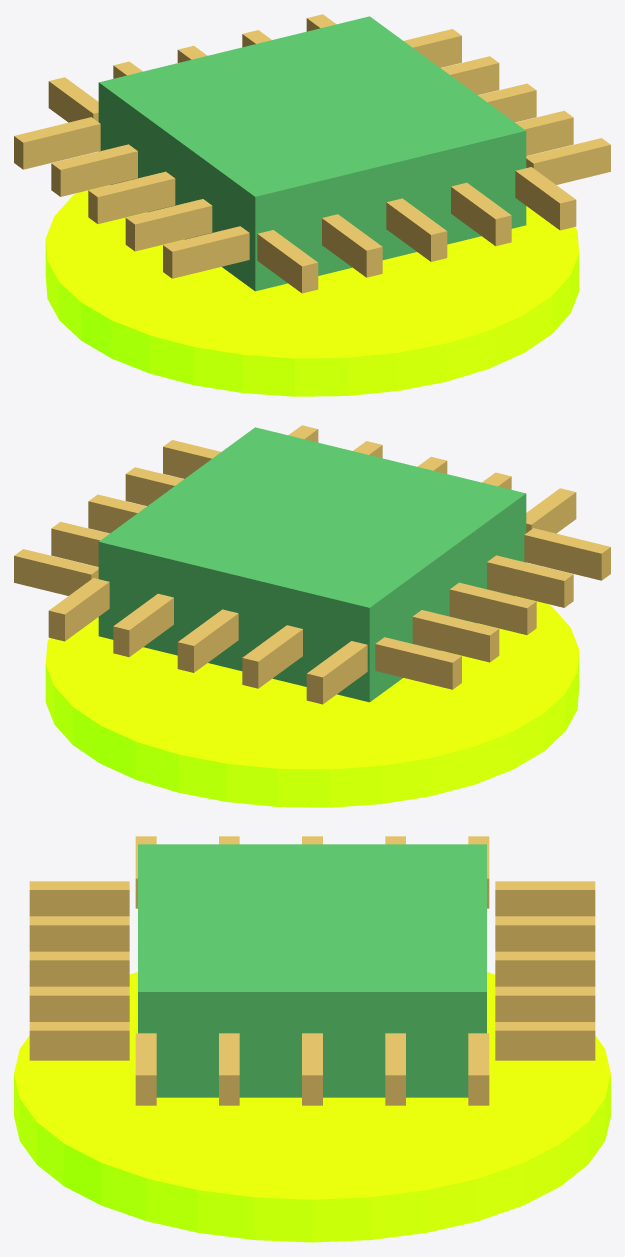
The model's file is tech_microchip.glb.
3 renders of one model, top to bottom at view 1: azimuth 30°, elevation 25°; view 2: azimuth 150°, elevation 25°; view 3: azimuth 270°, elevation 25°, orthographic. The views are drawn at different scales.
Parts seen in each view (by area): view 1: 08_19_Popular_Tech_Microchip_part_01, 08_19_Popular_Tech_Microchip_ROOT_base, 08_19_Popular_Tech_Microchip_part_04, 08_19_Popular_Tech_Microchip_part_05, 08_19_Popular_Tech_Microchip_part_02, 08_19_Popular_Tech_Microchip_part_03, 08_19_Popular_Tech_Microchip_part_06, 08_19_Popular_Tech_Microchip_part_11, 08_19_Popular_Tech_Microchip_part_17, 08_19_Popular_Tech_Microchip_part_19, 08_19_Popular_Tech_Microchip_part_21, 08_19_Popular_Tech_Microchip_part_18 (+6 smaller); view 2: 08_19_Popular_Tech_Microchip_part_01, 08_19_Popular_Tech_Microchip_ROOT_base, 08_19_Popular_Tech_Microchip_part_03, 08_19_Popular_Tech_Microchip_part_04, 08_19_Popular_Tech_Microchip_part_02, 08_19_Popular_Tech_Microchip_part_05, 08_19_Popular_Tech_Microchip_part_06, 08_19_Popular_Tech_Microchip_part_07, 08_19_Popular_Tech_Microchip_part_12, 08_19_Popular_Tech_Microchip_part_14, 08_19_Popular_Tech_Microchip_part_16, 08_19_Popular_Tech_Microchip_part_13 (+6 smaller); view 3: 08_19_Popular_Tech_Microchip_part_01, 08_19_Popular_Tech_Microchip_ROOT_base, 08_19_Popular_Tech_Microchip_part_16, 08_19_Popular_Tech_Microchip_part_21, 08_19_Popular_Tech_Microchip_part_13, 08_19_Popular_Tech_Microchip_part_18, 08_19_Popular_Tech_Microchip_part_12, 08_19_Popular_Tech_Microchip_part_14, 08_19_Popular_Tech_Microchip_part_15, 08_19_Popular_Tech_Microchip_part_17, 08_19_Popular_Tech_Microchip_part_19, 08_19_Popular_Tech_Microchip_part_20 (+5 smaller).
Boxes of the visible parts, left/top/right/bottom form: 08_19_Popular_Tech_Microchip_part_01: left=98, top=16, right=526, bottom=291; 08_19_Popular_Tech_Microchip_ROOT_base: left=45, top=185, right=579, bottom=396; 08_19_Popular_Tech_Microchip_part_04: left=88, top=171, right=175, bottom=223; 08_19_Popular_Tech_Microchip_part_05: left=125, top=199, right=212, bottom=251; 08_19_Popular_Tech_Microchip_part_02: left=14, top=117, right=100, bottom=169; 08_19_Popular_Tech_Microchip_part_03: left=51, top=144, right=137, bottom=196; 08_19_Popular_Tech_Microchip_part_06: left=163, top=226, right=249, bottom=278; 08_19_Popular_Tech_Microchip_part_11: left=526, top=138, right=610, bottom=184; 08_19_Popular_Tech_Microchip_part_17: left=257, top=230, right=318, bottom=293; 08_19_Popular_Tech_Microchip_part_19: left=386, top=198, right=447, bottom=261; 08_19_Popular_Tech_Microchip_part_21: left=515, top=167, right=576, bottom=230; 08_19_Popular_Tech_Microchip_part_18: left=322, top=214, right=382, bottom=277; 08_19_Popular_Tech_Microchip_part_01: left=98, top=427, right=526, bottom=702; 08_19_Popular_Tech_Microchip_ROOT_base: left=45, top=596, right=579, bottom=807; 08_19_Popular_Tech_Microchip_part_03: left=412, top=610, right=499, bottom=662; 08_19_Popular_Tech_Microchip_part_04: left=449, top=582, right=536, bottom=634; 08_19_Popular_Tech_Microchip_part_02: left=375, top=637, right=461, bottom=689; 08_19_Popular_Tech_Microchip_part_05: left=487, top=555, right=573, bottom=607; 08_19_Popular_Tech_Microchip_part_06: left=524, top=528, right=610, bottom=580; 08_19_Popular_Tech_Microchip_part_07: left=14, top=549, right=98, bottom=595; 08_19_Popular_Tech_Microchip_part_12: left=306, top=641, right=367, bottom=704; 08_19_Popular_Tech_Microchip_part_14: left=177, top=609, right=238, bottom=672; 08_19_Popular_Tech_Microchip_part_16: left=48, top=578, right=109, bottom=641; 08_19_Popular_Tech_Microchip_part_13: left=242, top=625, right=302, bottom=688; 08_19_Popular_Tech_Microchip_part_01: left=138, top=844, right=486, bottom=1097; 08_19_Popular_Tech_Microchip_ROOT_base: left=14, top=972, right=610, bottom=1242; 08_19_Popular_Tech_Microchip_part_16: left=495, top=1022, right=595, bottom=1060; 08_19_Popular_Tech_Microchip_part_21: left=29, top=1022, right=129, bottom=1060; 08_19_Popular_Tech_Microchip_part_13: left=495, top=916, right=595, bottom=951; 08_19_Popular_Tech_Microchip_part_18: left=29, top=916, right=129, bottom=951; 08_19_Popular_Tech_Microchip_part_12: left=495, top=881, right=595, bottom=916; 08_19_Popular_Tech_Microchip_part_14: left=495, top=951, right=595, bottom=986; 08_19_Popular_Tech_Microchip_part_15: left=495, top=986, right=595, bottom=1021; 08_19_Popular_Tech_Microchip_part_17: left=29, top=881, right=129, bottom=916; 08_19_Popular_Tech_Microchip_part_19: left=29, top=951, right=129, bottom=986; 08_19_Popular_Tech_Microchip_part_20: left=29, top=986, right=129, bottom=1021.
Size of the model in its own units: 0.76 by 0.2782 by 0.76.
